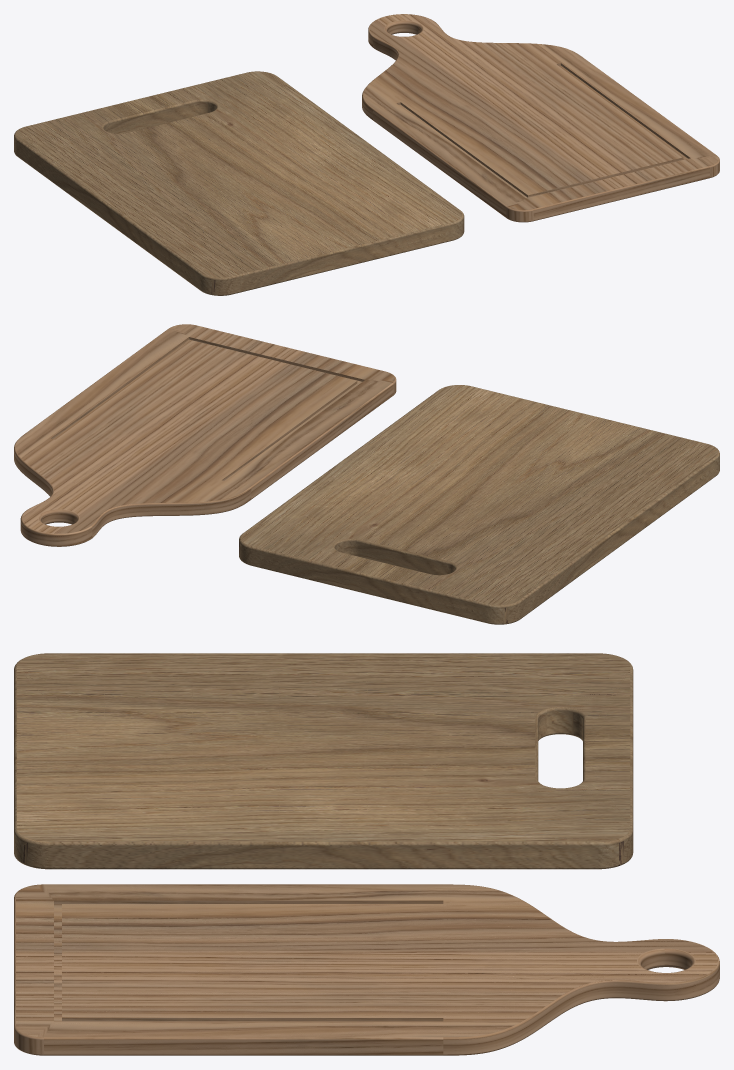
File: cutting-boards-middle-pair-optimized.glb
The picture shows the model from 3 angles, top to bottom: view 1: azimuth 30°, elevation 25°; view 2: azimuth 150°, elevation 25°; view 3: azimuth 270°, elevation 25°; orthographic projection. The views are drawn at different scales.
Parts seen in each view (by area): view 1: object_6, object_5; view 2: object_6, object_5; view 3: object_6, object_5.
Part boxes in pixels (x1,y1,x2,y2): object_6: (14, 71, 464, 295); object_5: (362, 14, 719, 222); object_6: (239, 385, 719, 624); object_5: (14, 324, 396, 546); object_6: (14, 653, 633, 869); object_5: (14, 884, 719, 1055).
Bounding box in the file's own units: 0.4449 × 0.015 × 0.3524.
1 material, 1 textured.
